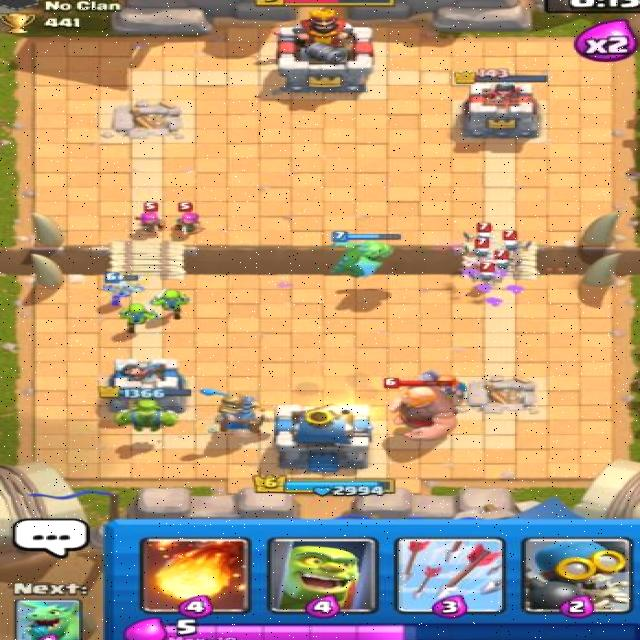Enemy-Archer: (132, 200, 170, 235), (169, 200, 204, 235)
Enemy-Giant: (377, 376, 467, 441)
Enemy-Skeleton: (469, 260, 500, 287), (497, 229, 526, 257), (469, 220, 497, 248), (465, 237, 495, 262), (489, 248, 517, 274)
Player-BabyDragon: (326, 228, 404, 281)
Player-Brawler: (111, 393, 182, 437)
Player-Goblin: (94, 270, 147, 309), (143, 285, 195, 316), (116, 304, 160, 334)
Player-Prince: (195, 384, 282, 439)
Player-Valkyrie: (432, 377, 473, 402)
